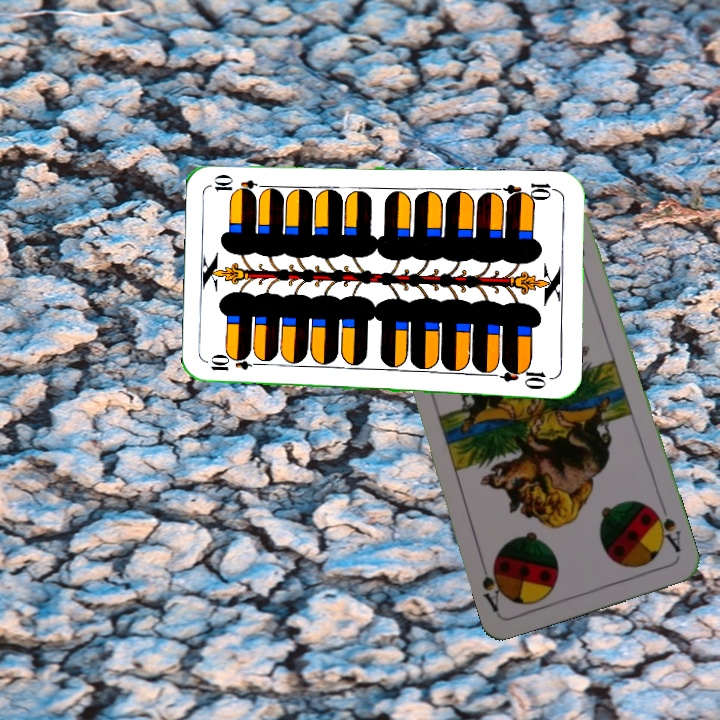E10: (501, 179, 560, 204), (206, 355, 265, 374)
SA: (648, 501, 684, 555)
